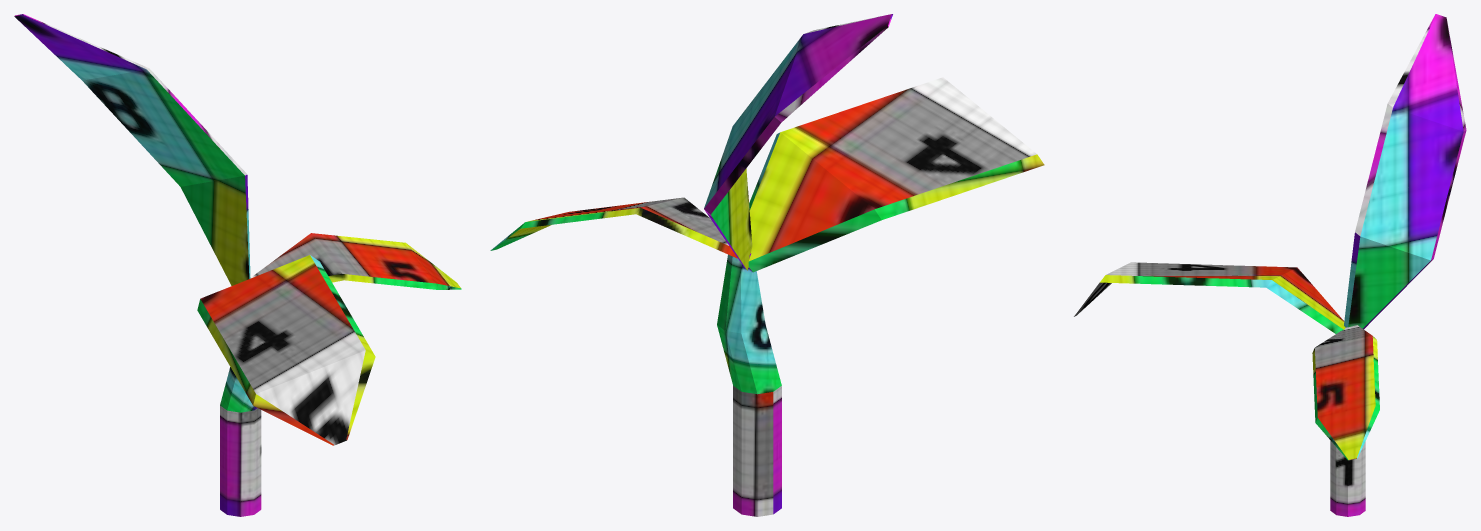
The model's file is PlantAsset2.fbx.
3 renders of one model, left to right at view 1: azimuth 30°, elevation 25°; view 2: azimuth 150°, elevation 25°; view 3: azimuth 270°, elevation 25°, orthographic. The views are drawn at different scales.
Visible parts, largest first — view 1: pCylinder2; view 2: pCylinder2; view 3: pCylinder2.
Boxes of the visible parts, bbox=[...] form: pCylinder2: bbox=[14, 14, 461, 516]; pCylinder2: bbox=[490, 14, 1044, 516]; pCylinder2: bbox=[1074, 14, 1466, 516].
Bounding box in the file's own units: 3.02 × 3.67 × 3.07.
1 material, 1 textured.
